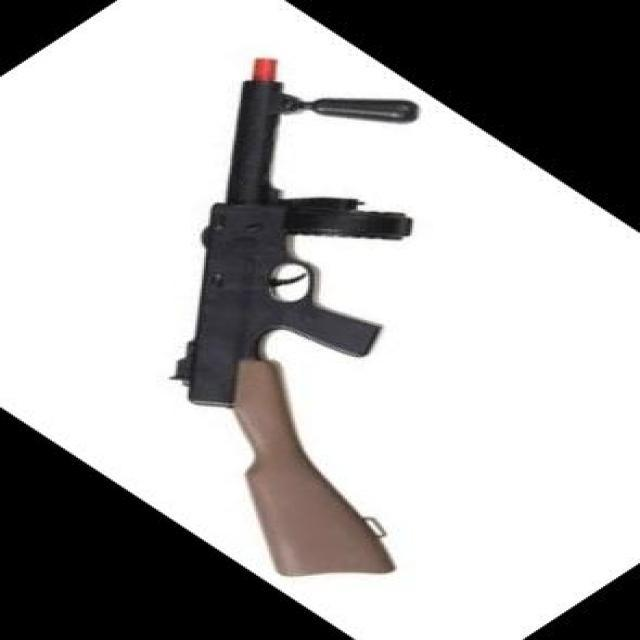weapon: (166, 56, 422, 578)
